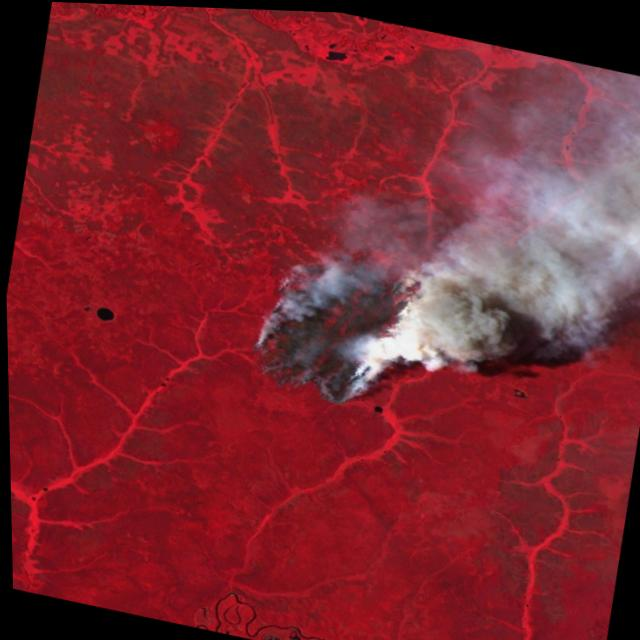fire: (230, 234, 444, 421)
